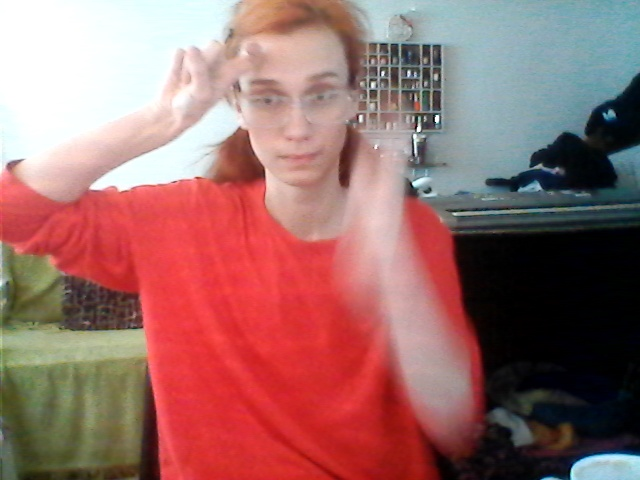chlapec: (156, 35, 284, 128)
